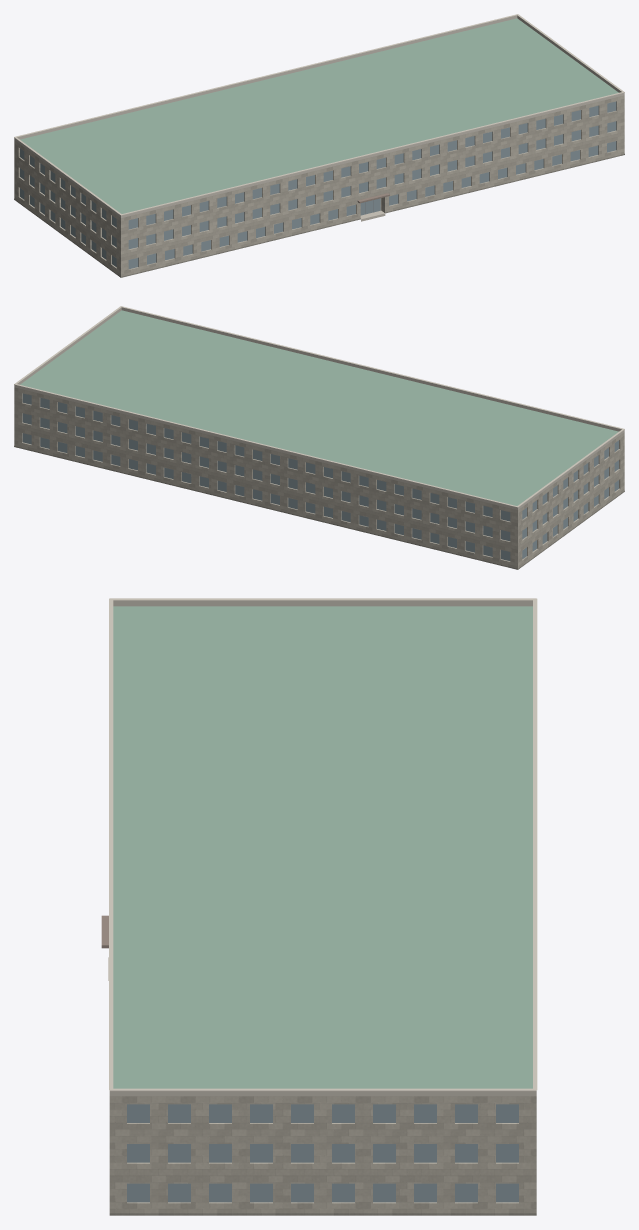
3 views of the same model, one above another, from view 1: azimuth 30°, elevation 25°; view 2: azimuth 150°, elevation 25°; view 3: azimuth 270°, elevation 25° (orthographic). The views are drawn at different scales.
Visible parts, largest first — view 1: osm631011018__roof, osm631011018__wall, osm631011018__glass, osm631011018__parapet, osm631011018__trim, osm631011018__base; view 2: osm631011018__roof, osm631011018__wall, osm631011018__glass, osm631011018__parapet, osm631011018__trim, osm631011018__base; view 3: osm631011018__roof, osm631011018__wall, osm631011018__glass, osm631011018__trim, osm631011018__parapet, osm631011018__base.
Boxes of the visible parts, x1=… form: osm631011018__roof: x1=20, y1=18, x2=618, y2=213; osm631011018__wall: x1=14, y1=95, x2=624, y2=277; osm631011018__glass: x1=20, y1=101, x2=616, y2=268; osm631011018__parapet: x1=14, y1=15, x2=624, y2=217; osm631011018__trim: x1=14, y1=14, x2=624, y2=215; osm631011018__base: x1=14, y1=154, x2=624, y2=277; osm631011018__roof: x1=20, y1=310, x2=618, y2=505; osm631011018__wall: x1=14, y1=387, x2=624, y2=569; osm631011018__glass: x1=22, y1=393, x2=618, y2=560; osm631011018__parapet: x1=14, y1=307, x2=624, y2=509; osm631011018__trim: x1=14, y1=306, x2=624, y2=507; osm631011018__base: x1=14, y1=446, x2=624, y2=569; osm631011018__roof: x1=113, y1=606, x2=532, y2=1088; osm631011018__wall: x1=109, y1=1096, x2=536, y2=1213; osm631011018__glass: x1=127, y1=1104, x2=518, y2=1202; osm631011018__trim: x1=109, y1=598, x2=537, y2=1091; osm631011018__parapet: x1=109, y1=600, x2=536, y2=1096; osm631011018__base: x1=109, y1=1213, x2=536, y2=1215.
Bounding box in the file's own units: 95.7 × 11.75 × 35.81.
Materials: 10 (2 with a texture image).
